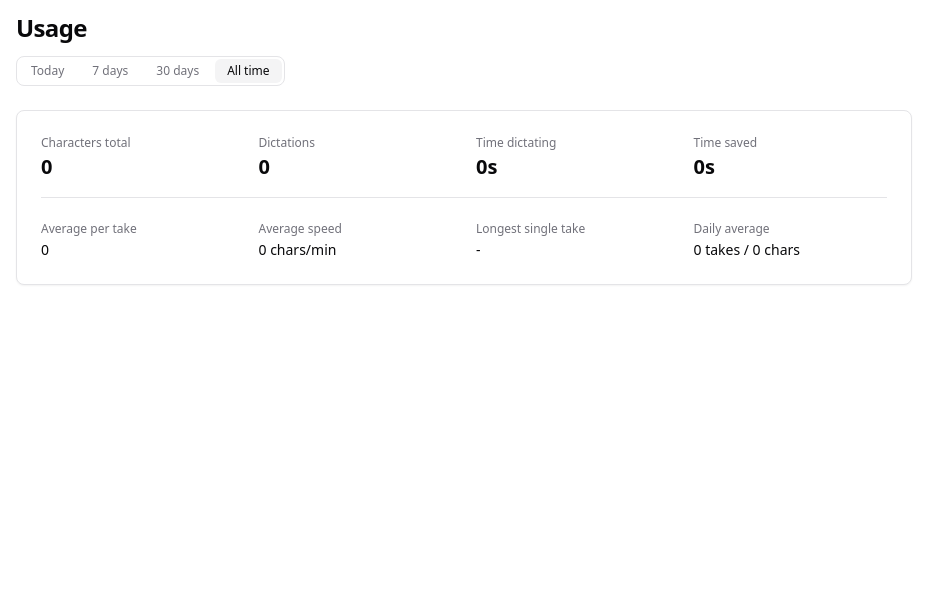
Test: usage page › keeps the newly selected range when the older request resolves later
Click the button "Today".
click(48, 71)  # box [19,59,76,83]
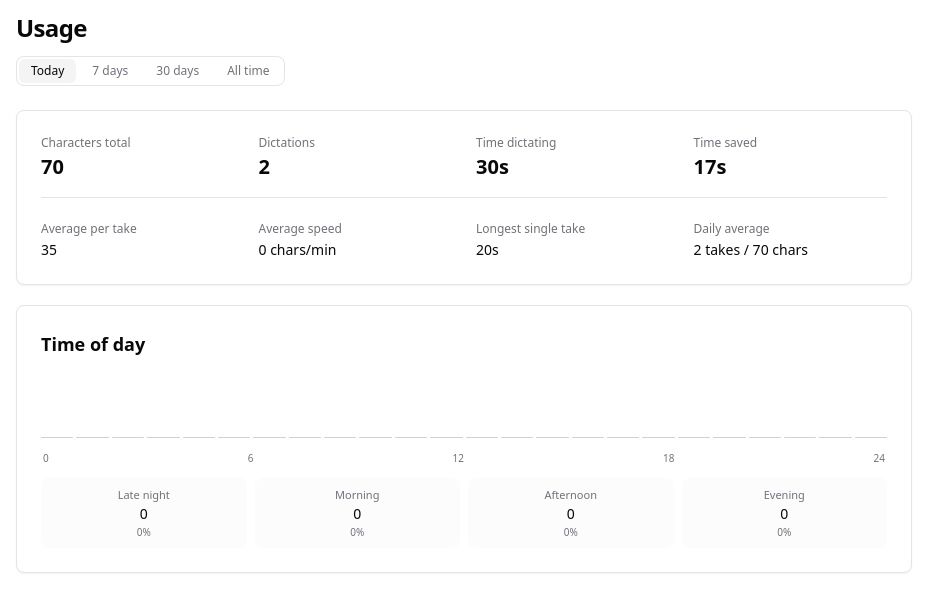
Result: the text "2" is shown at [258,153,270,180]
